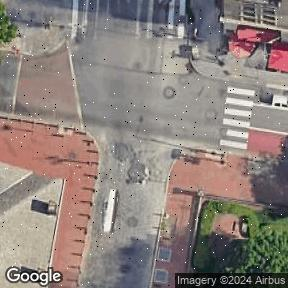vegetation: (236, 231, 288, 272), (0, 2, 17, 43)
